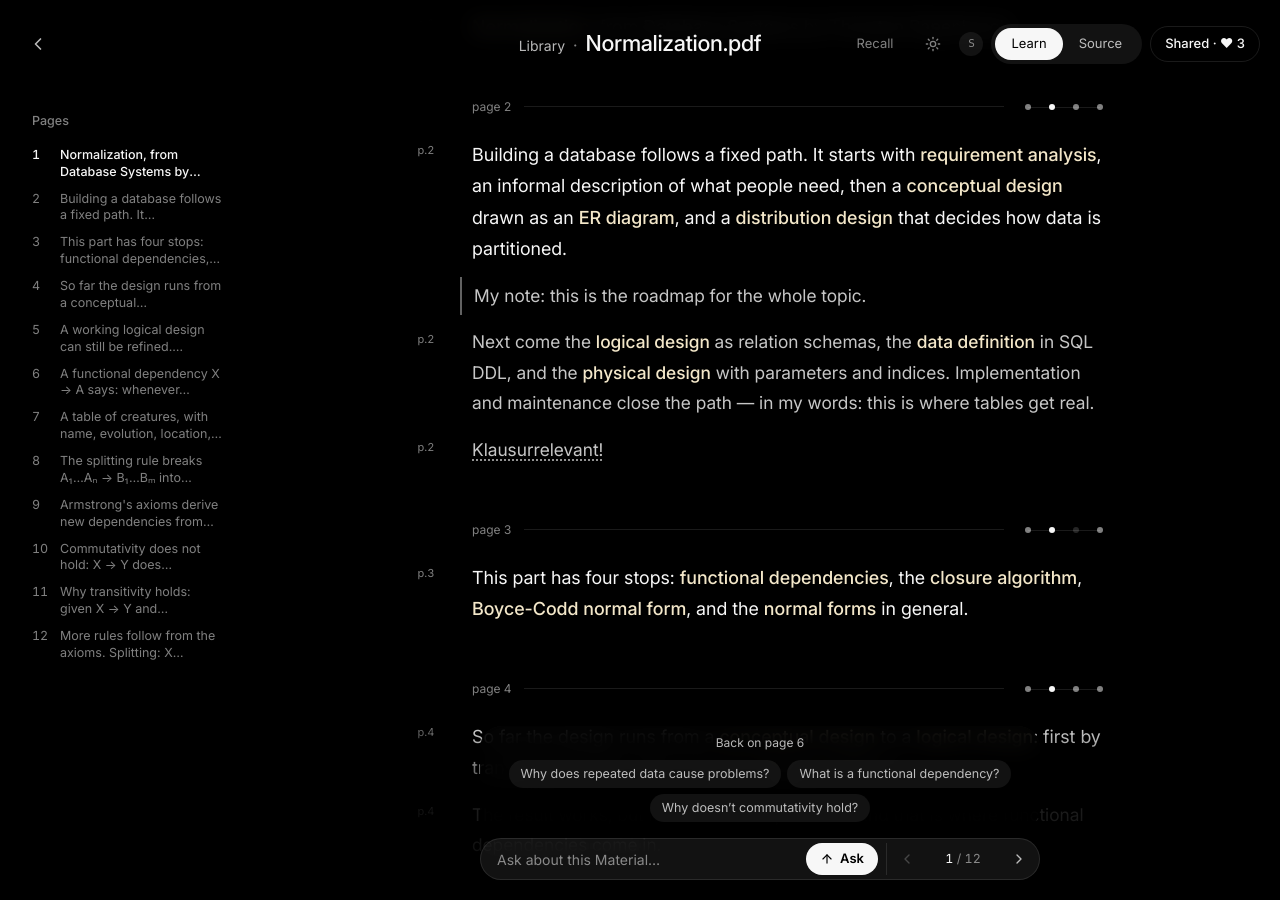
Scenario: Peek on the canvas › opens on hover-rest with the page and an outline
This screenshot has width=1280, height=900.
(page scrolled)
Hover over the element showing "p.2 Klausurrelevant!" at x=538, y=450, box [472,439,603,460]
Wait 350 ms
(page scrolled)
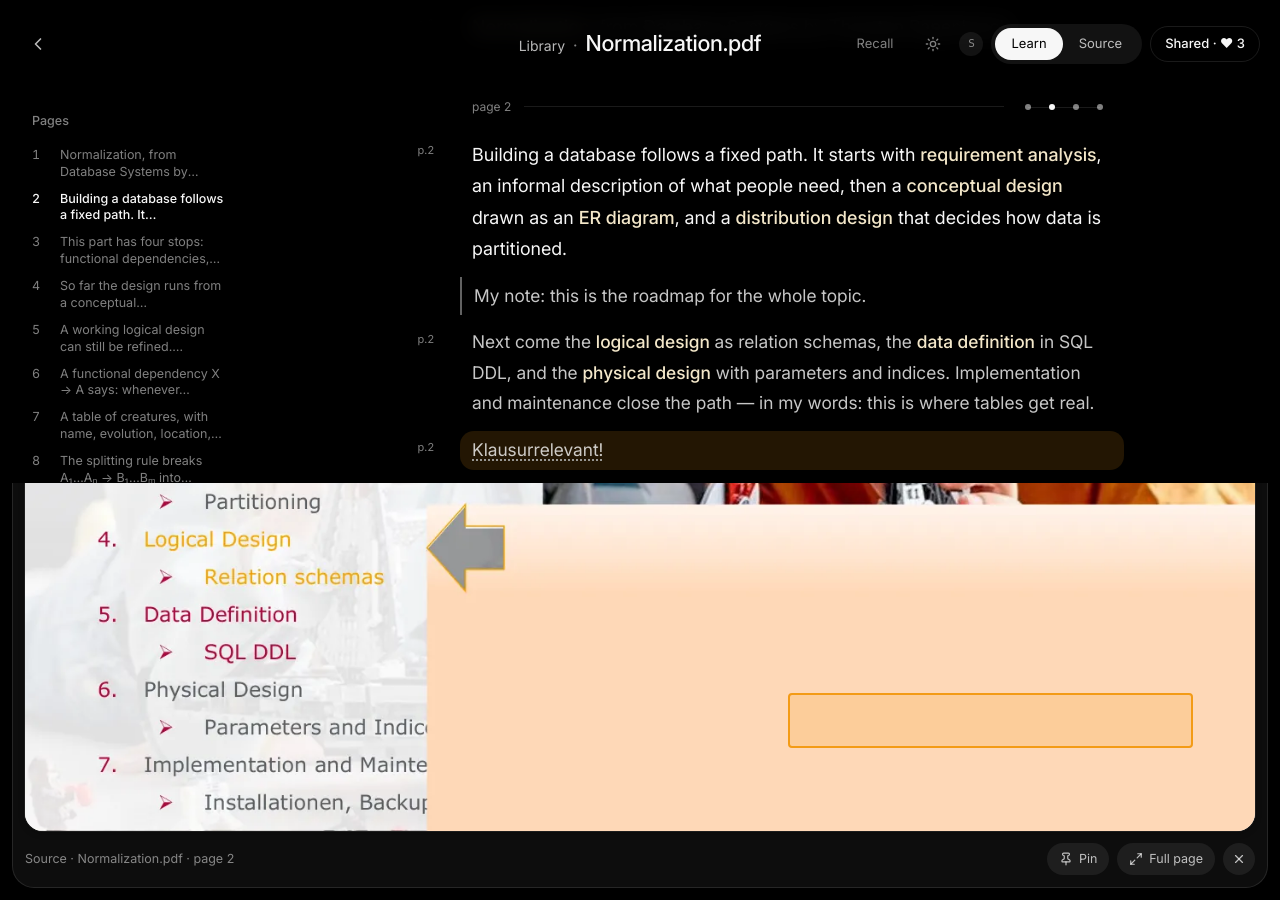
Now the element named "Source page" shows "Normalization.pdf · page 2", box [25,850,234,866]
Now the element with test id "peek-outline" is shown, box [788,692,1194,748]
